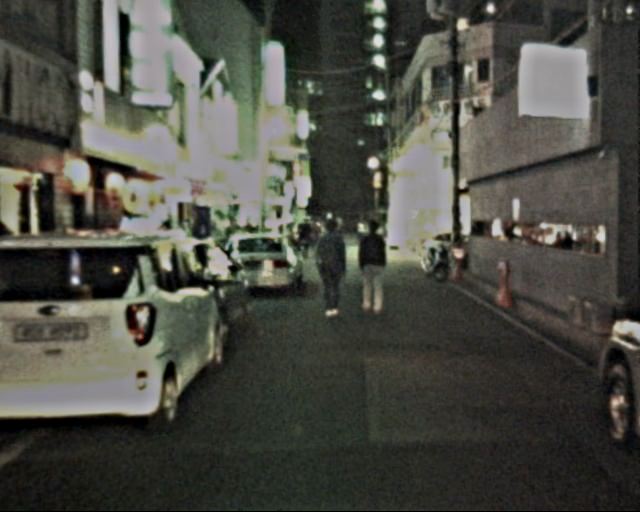person: (312, 217, 356, 317), (355, 223, 394, 315)
